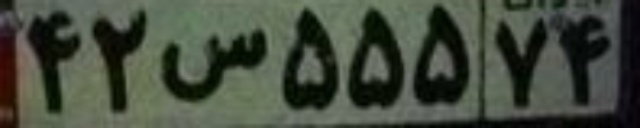2: (90, 7, 150, 113)
4: (26, 11, 80, 114), (559, 15, 611, 107)
5: (410, 3, 473, 107), (275, 5, 337, 110), (345, 7, 403, 108)
7: (491, 14, 549, 109)
sin: (159, 26, 267, 103)
